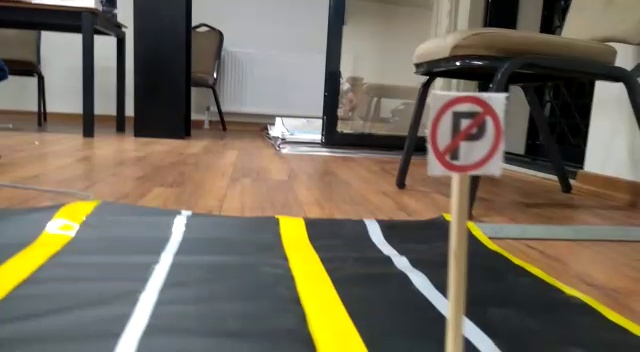park_yapilmaz: (431, 92, 502, 174)
